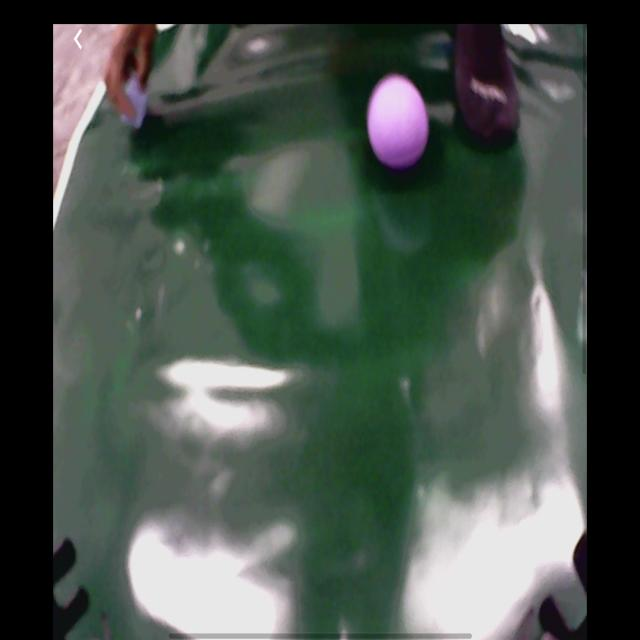ball: (367, 75, 431, 171)
